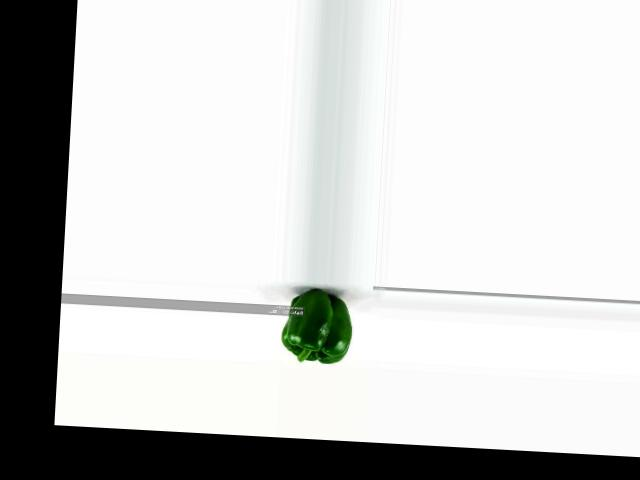bell_pepper: (281, 284, 357, 368)
